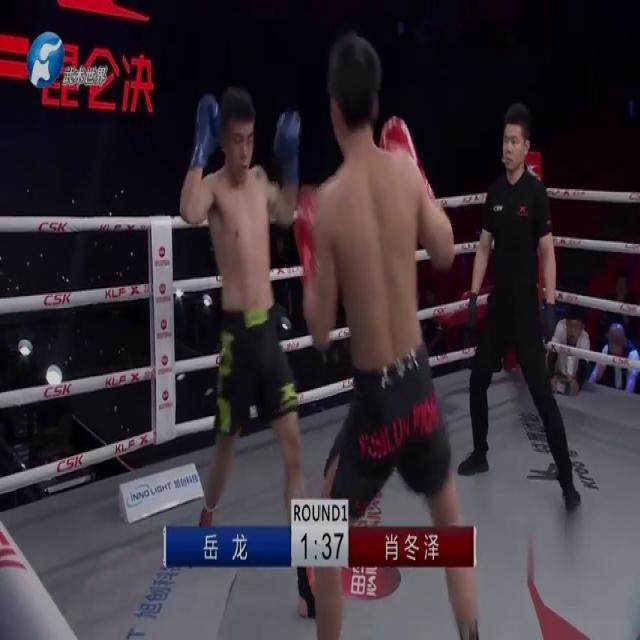fight: (176, 27, 478, 640)
non-fight: (458, 95, 582, 514)
